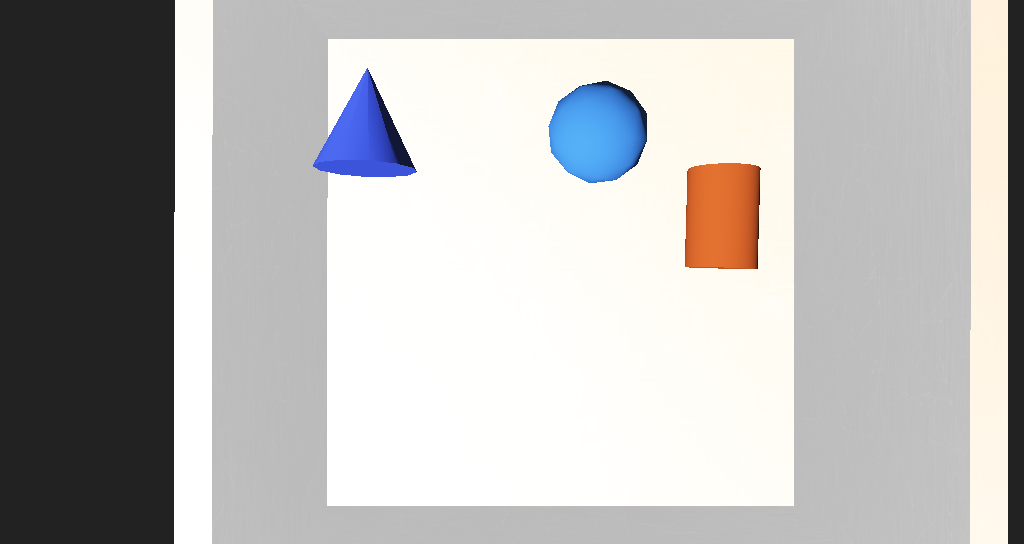cone: (579, 220, 633, 267)
cylinder: (337, 174, 418, 227)
sphere: (492, 181, 559, 229)
